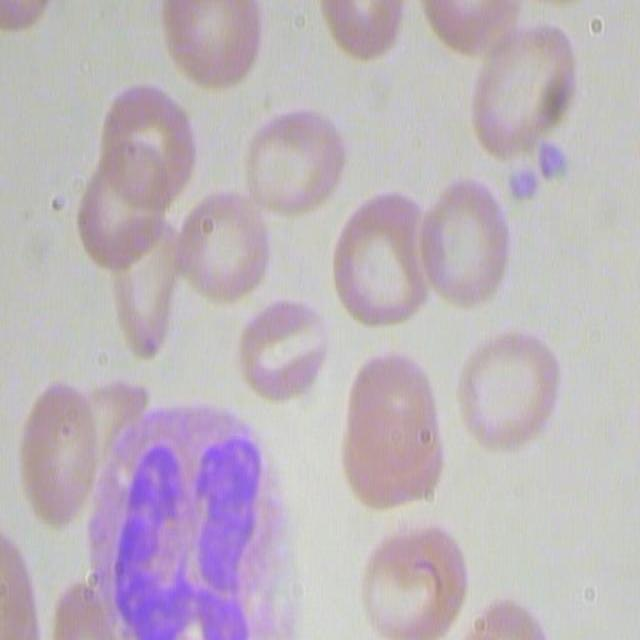RBC: (75, 71, 201, 270), (333, 340, 444, 510), (14, 369, 127, 524), (449, 320, 565, 459), (468, 10, 579, 154), (325, 186, 430, 338), (410, 171, 514, 312), (238, 92, 347, 226), (357, 515, 471, 640), (167, 187, 270, 305), (230, 294, 332, 410), (160, 0, 265, 87), (460, 567, 577, 640), (413, 0, 520, 57), (319, 0, 413, 59), (0, 525, 45, 638), (0, 0, 48, 47)
WBC: (94, 391, 276, 640)
platelets: (501, 160, 548, 207), (535, 132, 576, 185)
